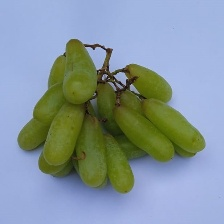grapes: (32, 24, 188, 183)
